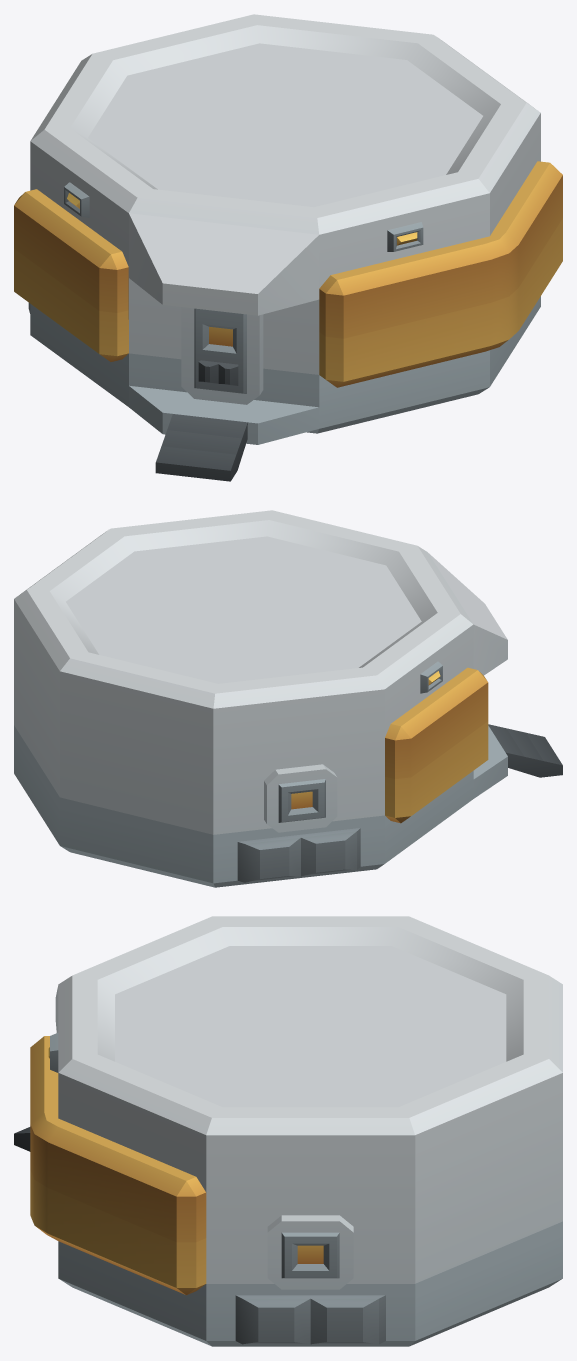
Rendered from basemodule_a.glb.
The picture shows the model from 3 angles, top to bottom: view 1: azimuth 30°, elevation 25°; view 2: azimuth 150°, elevation 25°; view 3: azimuth 270°, elevation 25°; orthographic projection. The views are drawn at different scales.
Visible parts, largest first — view 1: basemodule_A; view 2: basemodule_A; view 3: basemodule_A.
Boxes of the visible parts, x1=… form: basemodule_A: x1=14, y1=14, x2=562, y2=481; basemodule_A: x1=14, y1=510, x2=562, y2=887; basemodule_A: x1=14, y1=916, x2=562, y2=1346.
Size of the model in its own units: 6.74 by 3 by 6.53.
1 material, 1 textured.
